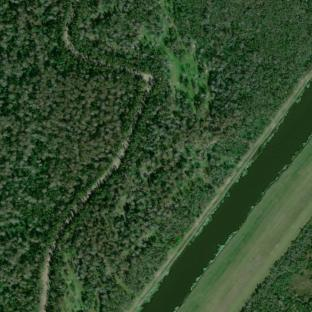Floresta: (0, 0, 312, 312), (0, 0, 144, 312), (240, 218, 312, 312), (0, 0, 0, 0)
